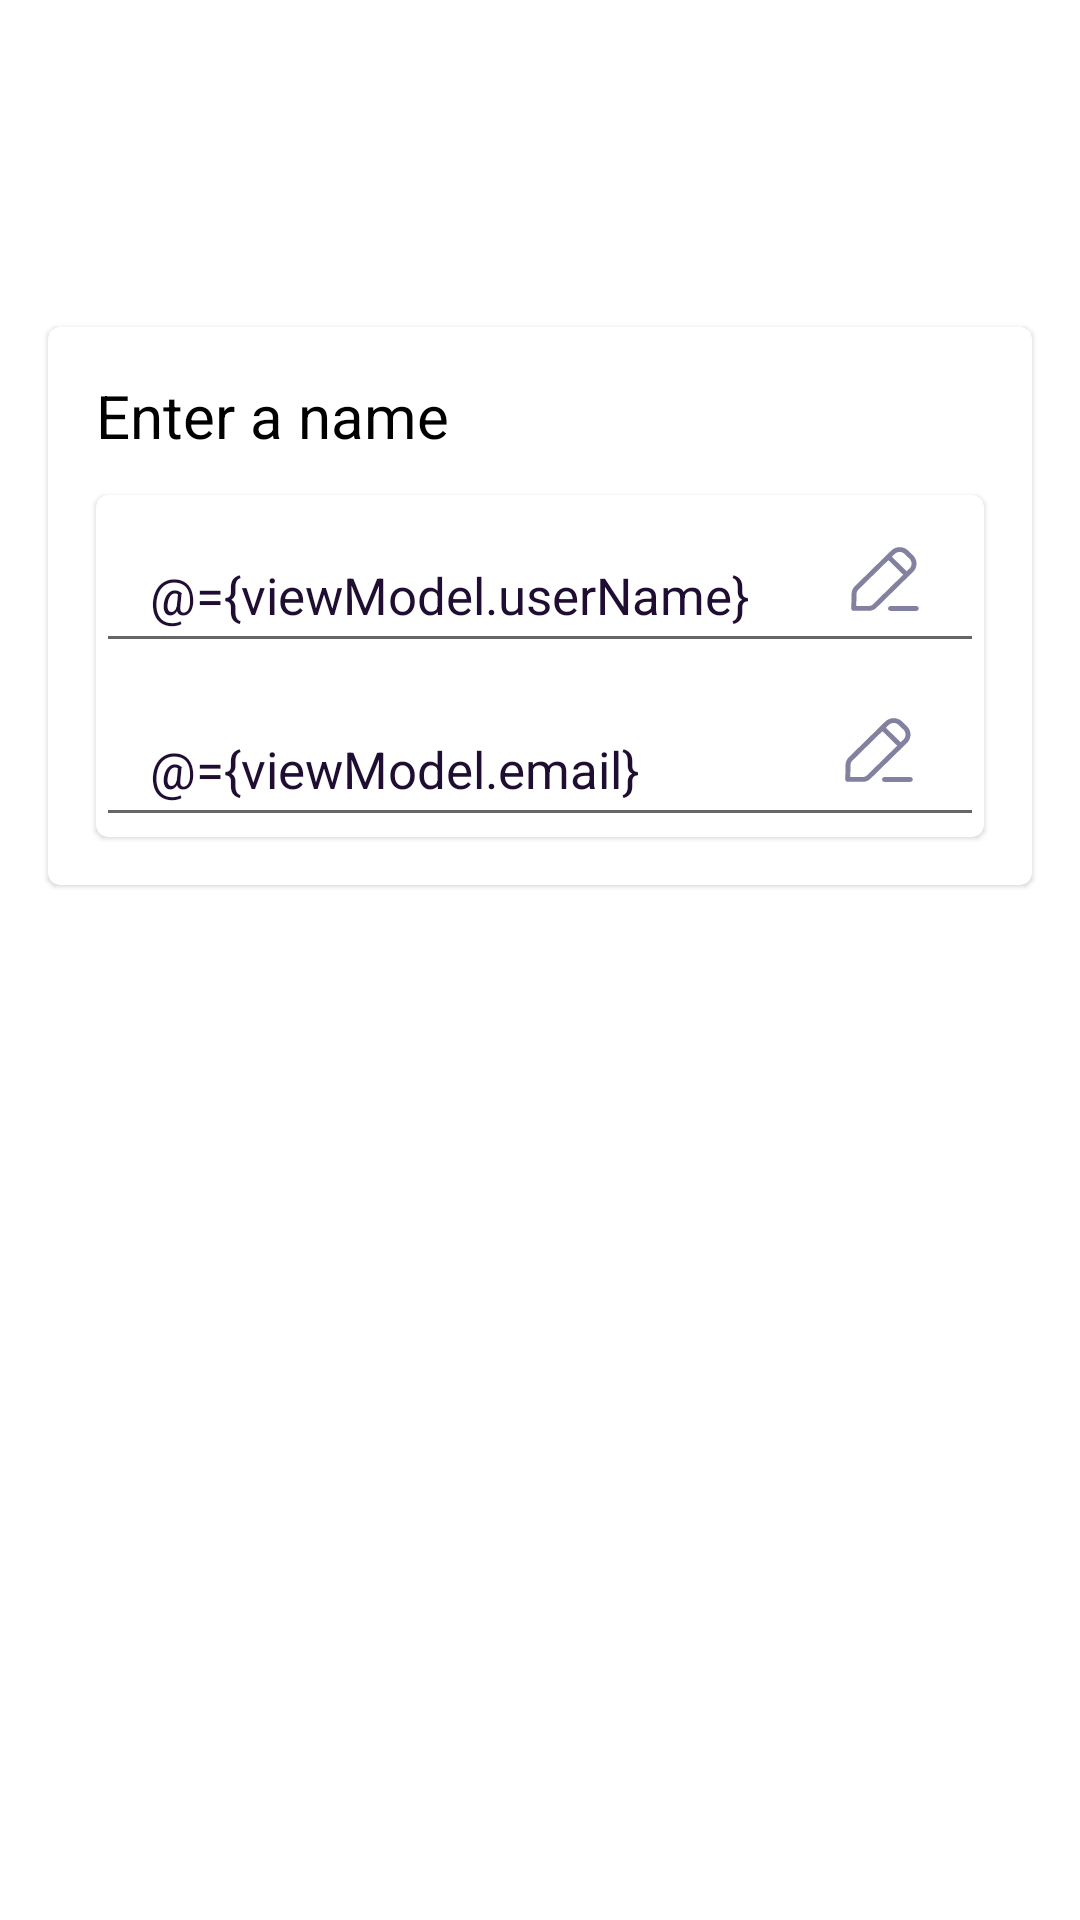

Icons on this 1080 × 1920 Android screen, each with its box as {"left": x1, "top": y1, "right": x2, "bottom": y2}:
edit name: {"left": 851, "top": 547, "right": 919, "bottom": 611}, {"left": 845, "top": 718, "right": 913, "bottom": 782}
